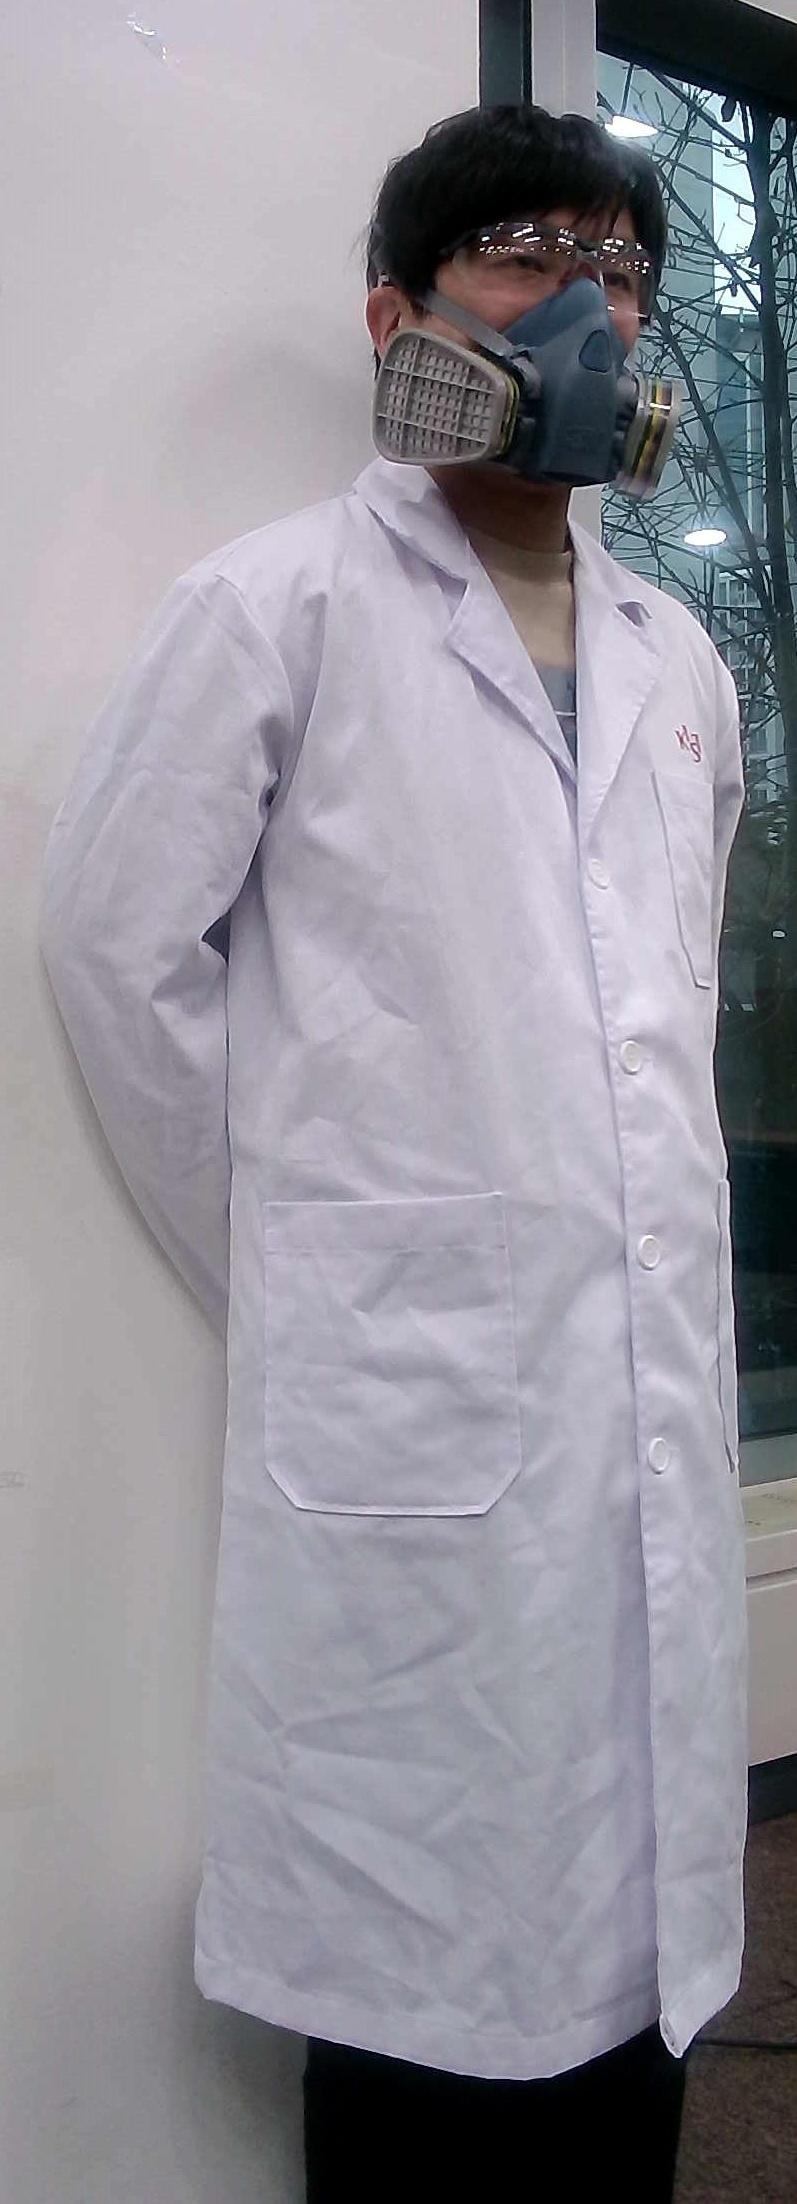lab_coat: (37, 526, 797, 2038)
